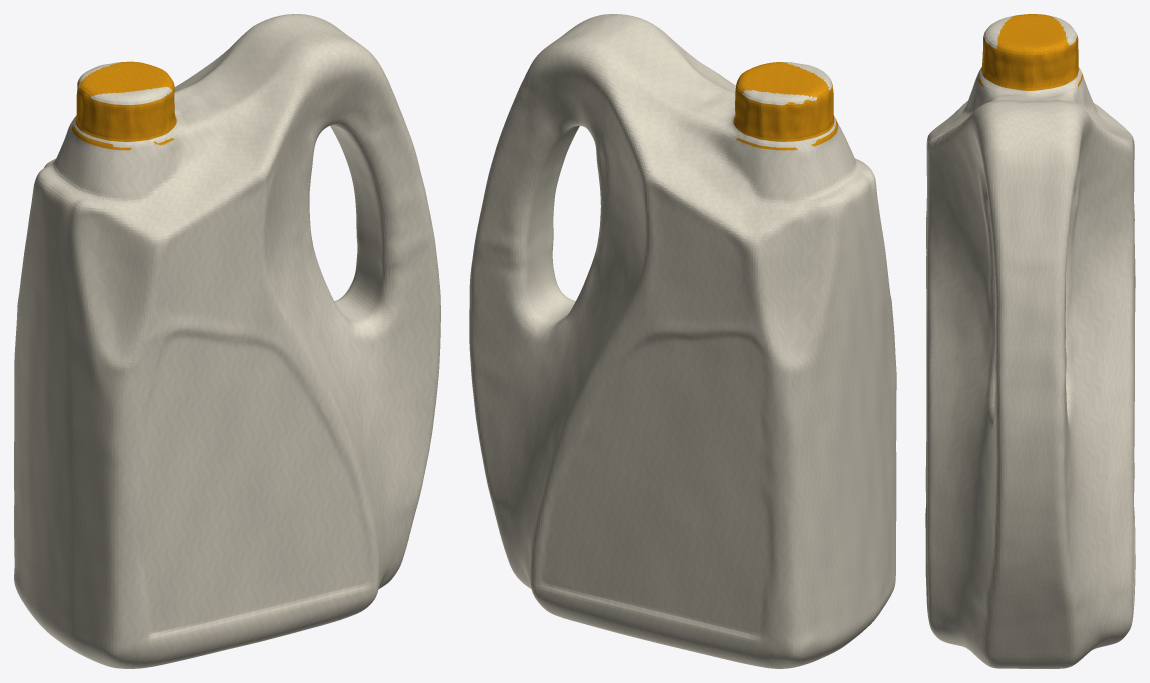
Rendered from oil-bottle-procedural-fast.glb.
3 renders of one model, left to right at view 1: azimuth 30°, elevation 25°; view 2: azimuth 150°, elevation 25°; view 3: azimuth 270°, elevation 25°, orthographic. The views are drawn at different scales.
Parts seen in each view (by area): view 1: FoodOilCan_UserGeometry; view 2: FoodOilCan_UserGeometry; view 3: FoodOilCan_UserGeometry.
Part boxes in pixels (x1,y1,x2,y2): FoodOilCan_UserGeometry: [14, 14, 440, 668]; FoodOilCan_UserGeometry: [469, 14, 896, 668]; FoodOilCan_UserGeometry: [925, 14, 1135, 668].
Bounding box in the file's own units: 0.1485 × 0.208 × 0.0742.
Materials: 2 (2 with a texture image).
